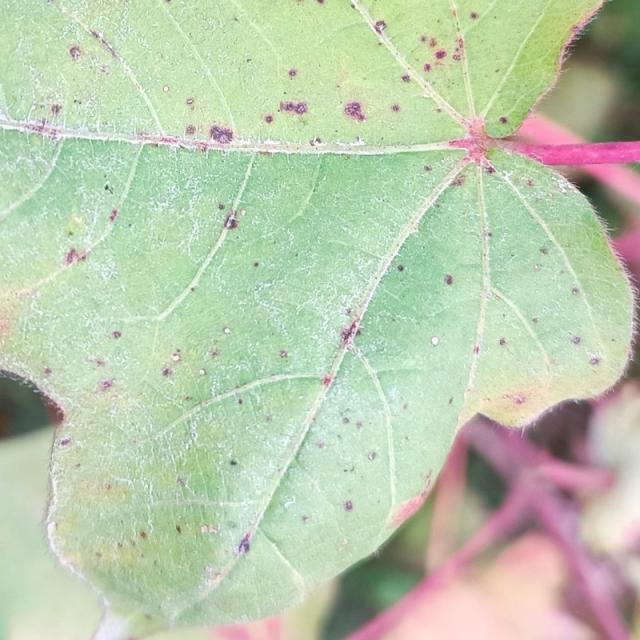Bacterial_Blight: (157, 345, 198, 383), (277, 90, 314, 128), (134, 131, 208, 150), (86, 26, 121, 60), (457, 115, 491, 150), (337, 412, 369, 438), (343, 101, 367, 122), (340, 319, 360, 344), (209, 124, 234, 143), (65, 247, 87, 266), (67, 214, 86, 236), (223, 211, 241, 230), (501, 392, 529, 404), (237, 533, 252, 554), (69, 45, 83, 60), (282, 495, 296, 510), (450, 174, 466, 187), (200, 524, 218, 535), (374, 20, 387, 33), (101, 378, 114, 390), (171, 349, 182, 363), (557, 182, 569, 193), (424, 470, 433, 484), (443, 274, 454, 285), (185, 124, 196, 135), (435, 49, 446, 60), (161, 366, 172, 377), (51, 104, 62, 115), (484, 165, 496, 175), (109, 209, 118, 222), (310, 137, 323, 146), (400, 73, 411, 83), (322, 375, 332, 386), (570, 335, 581, 345), (104, 184, 114, 195), (59, 438, 71, 447), (111, 330, 122, 339), (344, 500, 353, 511), (210, 348, 220, 357), (264, 114, 273, 124), (279, 349, 288, 359), (469, 11, 479, 20), (316, 440, 326, 449), (367, 452, 377, 461), (43, 366, 52, 376), (95, 359, 106, 367), (589, 357, 600, 365), (571, 287, 580, 296), (431, 336, 440, 345), (205, 566, 214, 575), (539, 247, 549, 255), (177, 477, 185, 487), (288, 69, 297, 77), (429, 38, 437, 47), (498, 338, 507, 346), (423, 63, 431, 72), (392, 104, 401, 112), (499, 116, 508, 124), (525, 179, 534, 187), (229, 458, 238, 466), (421, 92, 432, 98), (397, 264, 405, 272), (186, 97, 194, 105), (342, 416, 350, 424), (301, 515, 309, 523), (420, 35, 428, 43), (531, 316, 539, 324), (453, 53, 461, 61), (341, 538, 349, 546), (423, 165, 432, 172), (140, 530, 147, 539), (175, 525, 182, 534), (473, 345, 480, 354), (217, 203, 225, 210), (534, 263, 542, 270), (105, 483, 112, 491), (223, 327, 231, 334), (402, 402, 409, 410), (448, 396, 454, 405), (163, 85, 170, 92), (237, 397, 243, 405), (253, 261, 259, 268), (486, 231, 493, 237), (241, 209, 247, 216), (190, 286, 196, 292), (611, 337, 617, 342)
Cotton: (0, 0, 634, 630)
